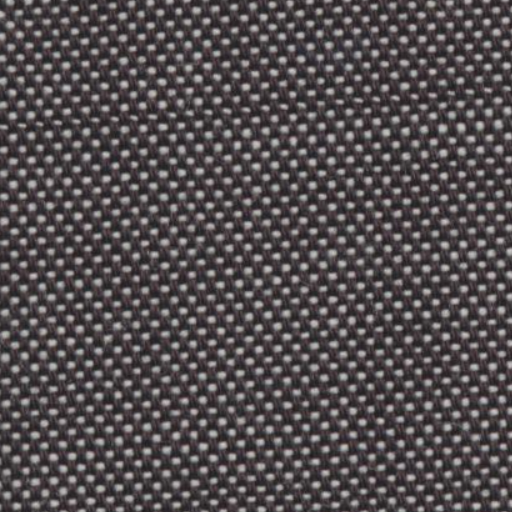TuoSha: (33, 63, 493, 144)
